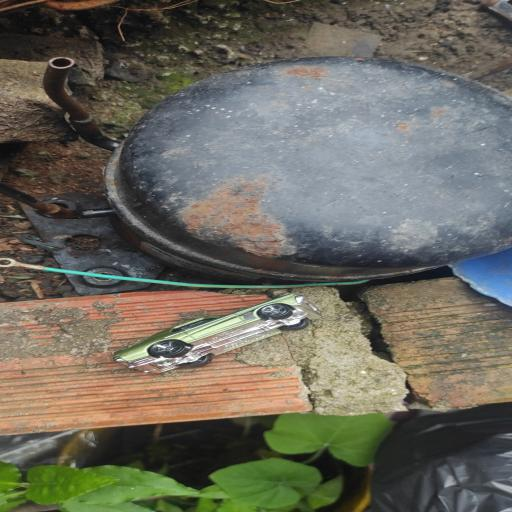Carrito: (113, 294, 321, 373)
